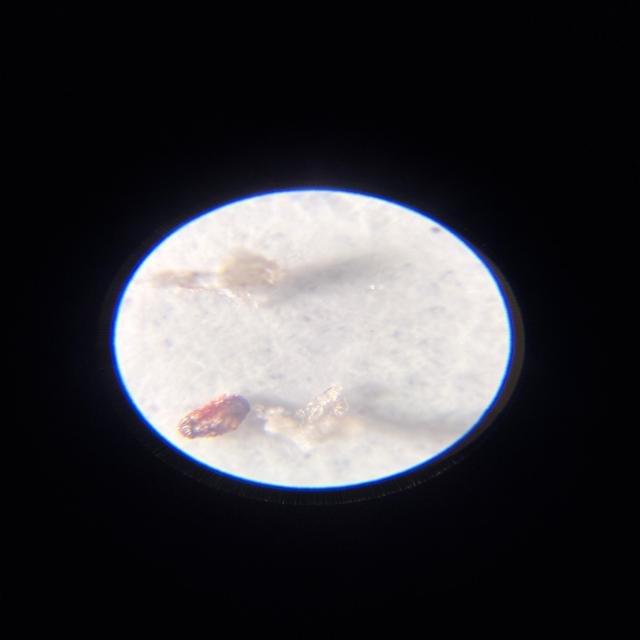microplastic_type_0: (177, 395, 250, 440)
microplastic_type_1: (146, 252, 292, 306), (256, 386, 362, 451)
